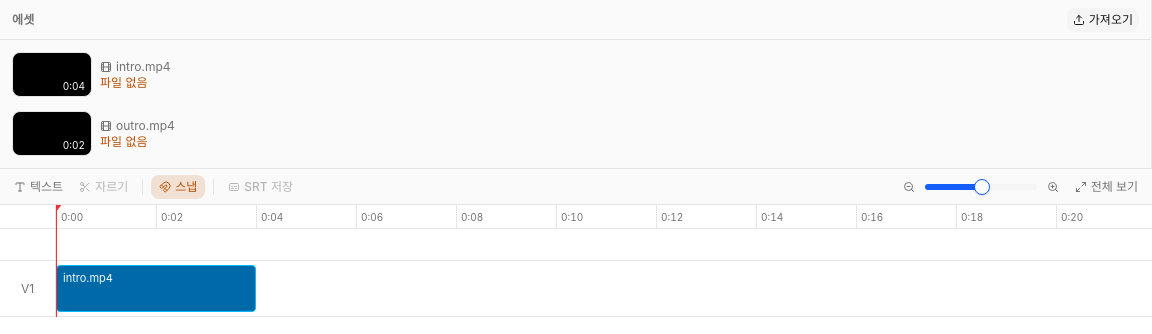
Test case: Timeline › 클립 이동 › 끄는 동안 실제로 놓일 자리를 미리 보여주고 원래 클립은 흐리게 표시한다
The image size is (1152, 334).
Earlier steps of the test are not shown.
Press the mouse on the list item with aria-label "클립 intro.mp4" at (156, 288), box [56,265,256,312]
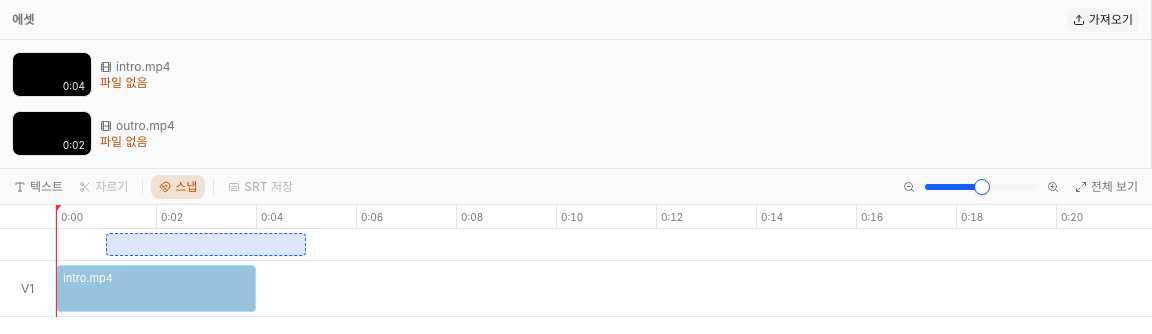
Result: the list item with aria-label "클립 intro.mp4" has class "opacity-40" at [56,265,256,312]
